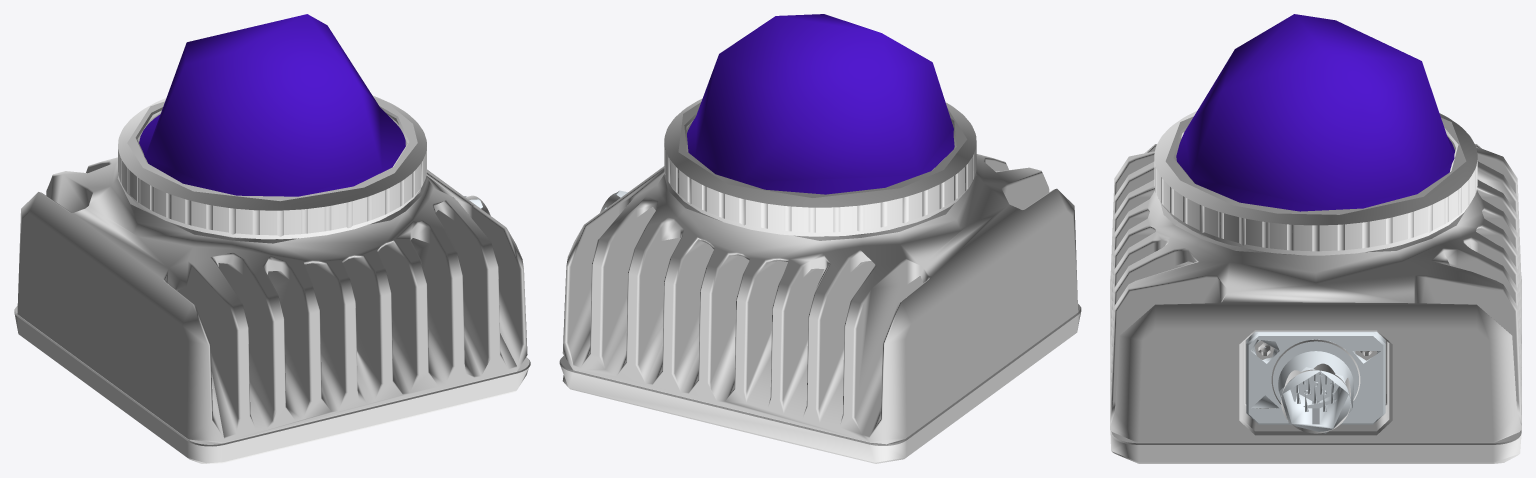
The model's file is mid360.glb.
The picture shows the model from 3 angles, left to right: view 1: azimuth 30°, elevation 25°; view 2: azimuth 150°, elevation 25°; view 3: azimuth 270°, elevation 25°; orthographic projection. The views are drawn at different scales.
Visible parts, largest first — view 1: Node27, Node8, Node24; view 2: Node27, Node8, Node24; view 3: Node27, Node8, Node24, Node14.
Part boxes in pixels (bbox=[...]): Node27: bbox=[14, 112, 530, 446]; Node8: bbox=[139, 14, 405, 196]; Node24: bbox=[14, 96, 529, 463]; Node27: bbox=[559, 122, 1081, 445]; Node8: bbox=[687, 14, 954, 194]; Node24: bbox=[560, 98, 1081, 463]; Node27: bbox=[1110, 135, 1521, 444]; Node8: bbox=[1176, 14, 1454, 211]; Node24: bbox=[1110, 111, 1521, 463]; Node14: bbox=[1246, 331, 1385, 433].
Bounding box in the file's own units: 0.0717 × 0.06 × 0.0649.
